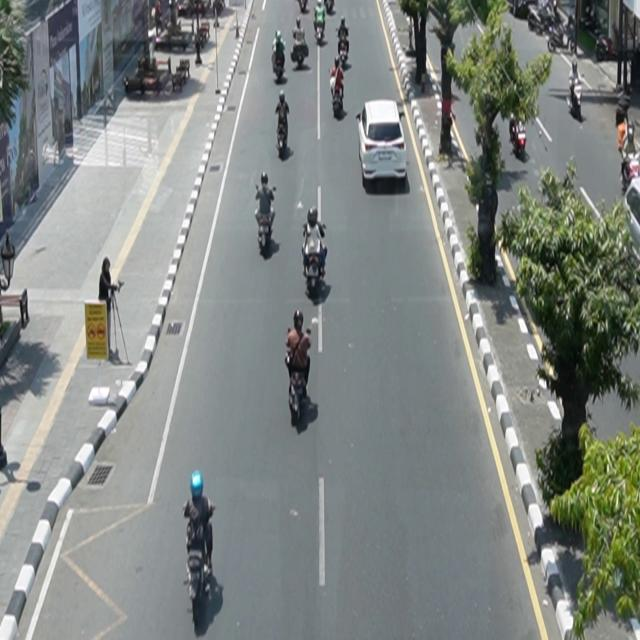car: (357, 100, 408, 186)
